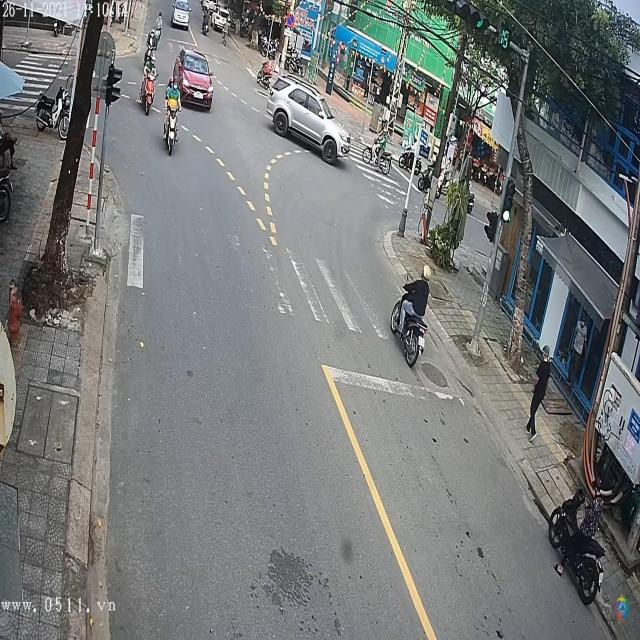car: (266, 80, 351, 166), (175, 49, 215, 111), (172, 1, 192, 30)
motorcycle: (545, 488, 607, 610), (388, 288, 428, 371), (362, 129, 392, 178), (161, 104, 181, 156), (399, 142, 422, 177), (139, 70, 156, 116)
